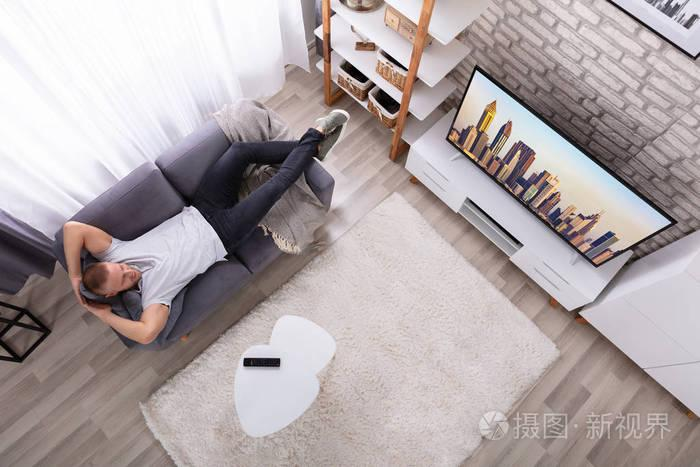down: (54, 102, 356, 345)
